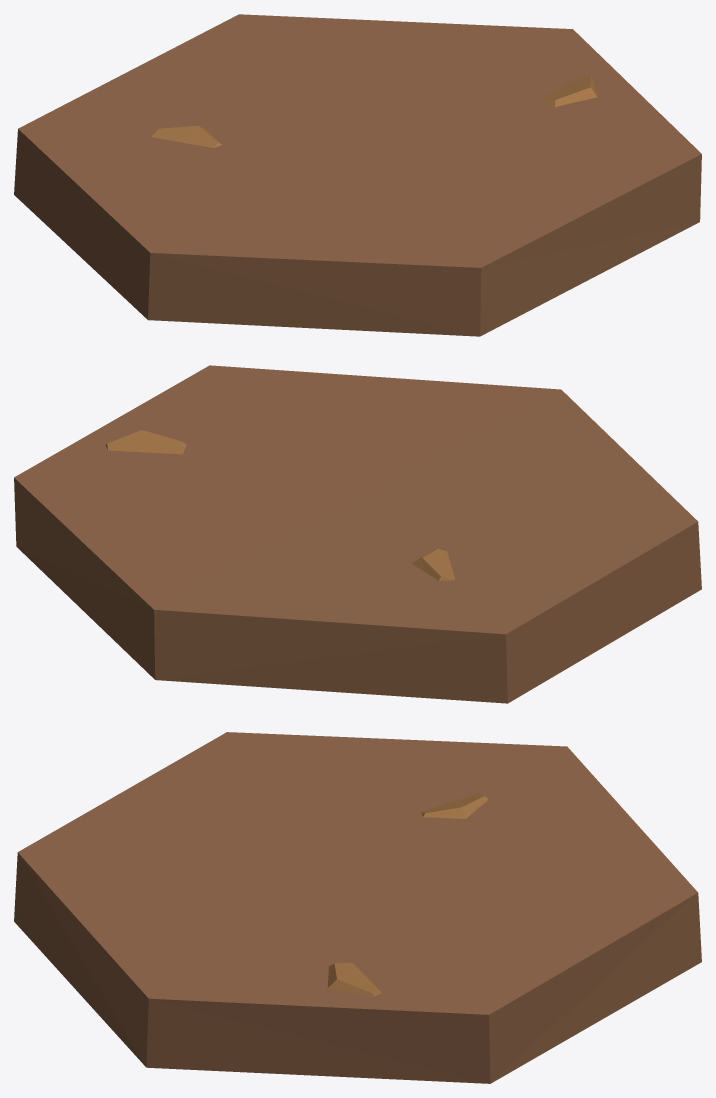
File: prop_path_slab_a.glb
3 renders of one model, top to bottom at view 1: azimuth 30°, elevation 25°; view 2: azimuth 150°, elevation 25°; view 3: azimuth 270°, elevation 25°, orthographic. The views are drawn at different scales.
Visible parts, largest first — view 1: prop_path_slab_a_cluster_material_00; view 2: prop_path_slab_a_cluster_material_00; view 3: prop_path_slab_a_cluster_material_00.
Boxes of the visible parts, bbox=[...] form: prop_path_slab_a_cluster_material_00: bbox=[14, 14, 701, 336]; prop_path_slab_a_cluster_material_00: bbox=[14, 365, 701, 703]; prop_path_slab_a_cluster_material_00: bbox=[14, 732, 701, 1083].
Bounding box in the file's own units: 0.511 × 0.0658 × 0.5222.
